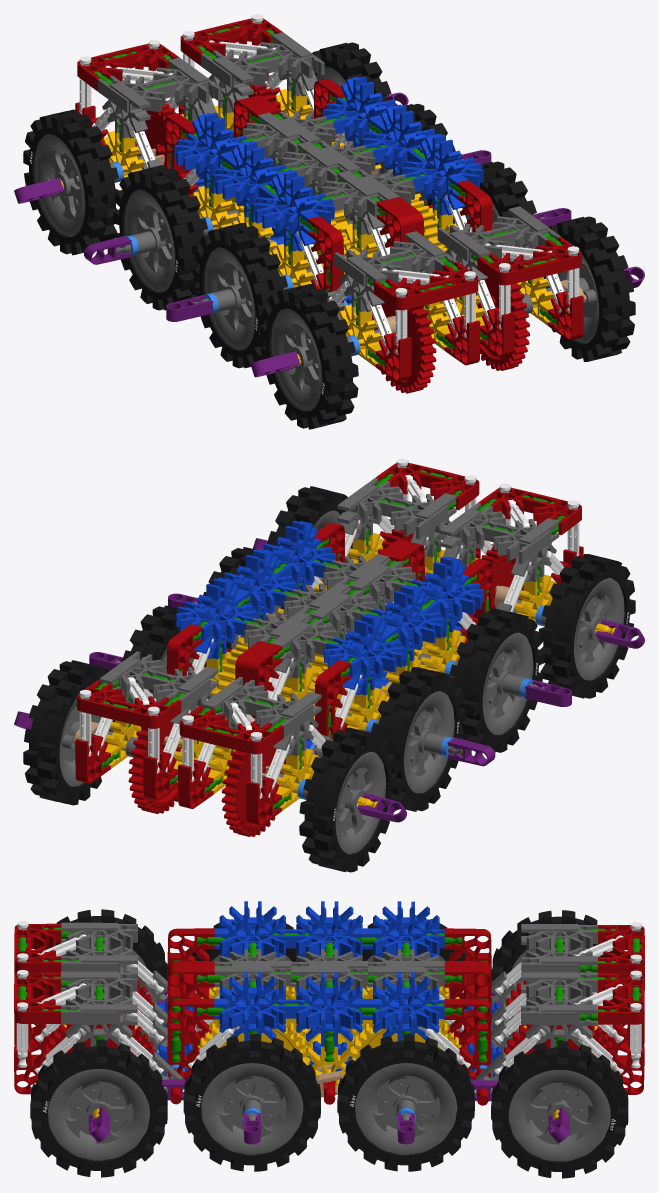
The picture shows the model from 3 angles, top to bottom: view 1: azimuth 30°, elevation 25°; view 2: azimuth 150°, elevation 25°; view 3: azimuth 270°, elevation 25°; orthographic projection. The views are drawn at different scales.
Parts seen in each view (by area): view 1: B1_L20.006, B1_L20.010, B1_L20.003, B1_L20.005, B1_L20.002, B1_L20.004, B1_L20, B1_L20.001, B1_L20.007; view 2: B1_L20.006, B1_L20.010, B1_L20.003, B1_L20.005, B1_L20.002, B1_L20.004, B1_L20, B1_L20.001, B1_L20.007; view 3: B1_L20.006, B1_L20.010, B1_L20.003, B1_L20.005, B1_L20.004, B1_L20.001, B1_L20.002, B1_L20.
Boxes of the visible parts, box(x1,y1,x2,y2) form: B1_L20.006: box(34, 32, 599, 410); B1_L20.010: box(23, 42, 635, 429); B1_L20.003: box(75, 18, 583, 393); B1_L20.005: box(174, 76, 483, 304); B1_L20.002: box(57, 89, 553, 367); B1_L20.004: box(79, 14, 579, 354); B1_L20: box(14, 92, 644, 377); B1_L20.001: box(94, 26, 562, 366); B1_L20.007: box(111, 161, 547, 355); B1_L20.006: box(59, 478, 624, 854); B1_L20.010: box(23, 486, 635, 872); B1_L20.003: box(75, 462, 583, 836); B1_L20.005: box(176, 520, 483, 748); B1_L20.002: box(105, 533, 615, 810); B1_L20.004: box(79, 458, 579, 798); B1_L20: box(14, 538, 644, 822); B1_L20.001: box(95, 470, 565, 810); B1_L20.007: box(111, 605, 544, 799); B1_L20.006: box(48, 922, 610, 1161); B1_L20.010: box(30, 909, 628, 1178); B1_L20.003: box(14, 923, 644, 1105); B1_L20.005: box(156, 901, 501, 1090); B1_L20.004: box(16, 921, 641, 1074); B1_L20.001: box(17, 927, 641, 1062); B1_L20.002: box(63, 986, 597, 1119); B1_L20: box(88, 989, 569, 1144).
Size of the model in its own units: 2.2 by 0.9001 by 3.08.
